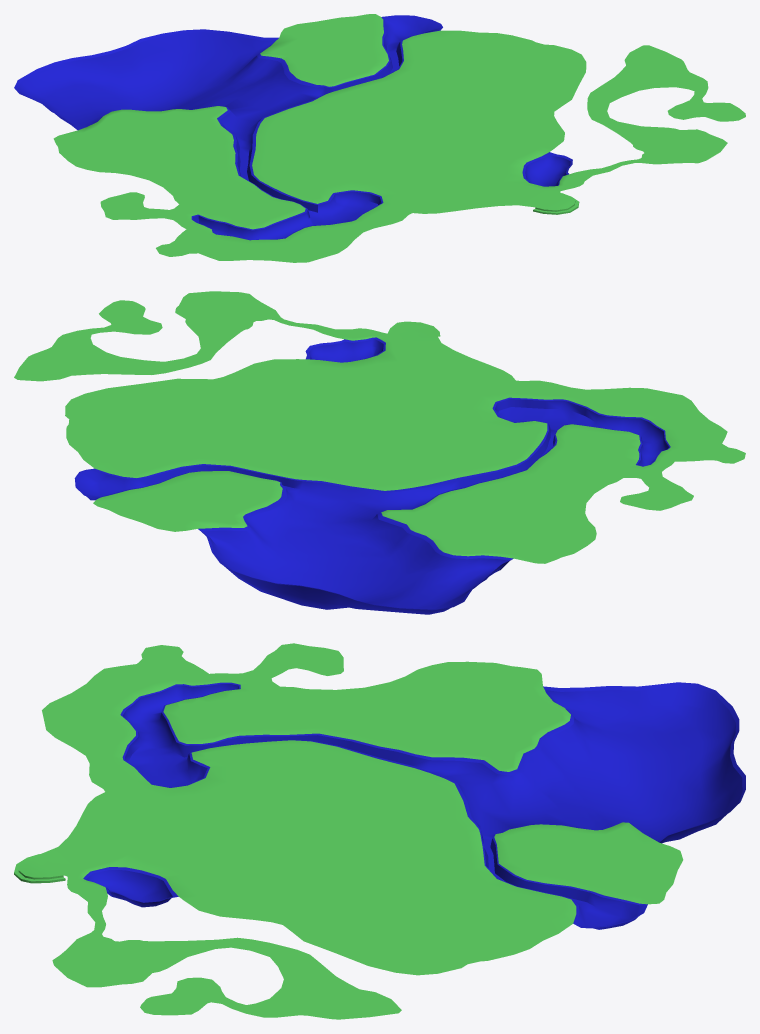
The model's file is Light Terrain.fbx.
3 views of the same model, one above another, from view 1: azimuth 30°, elevation 25°; view 2: azimuth 150°, elevation 25°; view 3: azimuth 270°, elevation 25° (orthographic). The views are drawn at different scales.
Parts seen in each view (by area): view 1: Land; view 2: Land; view 3: Land.
Part boxes in pixels (x1,y1,x2,y2): Land: (14,14,745,262); Land: (14,291,745,614); Land: (14,643,745,1019).
Bounding box in the file's own units: 39184 × 2447 × 32209.
